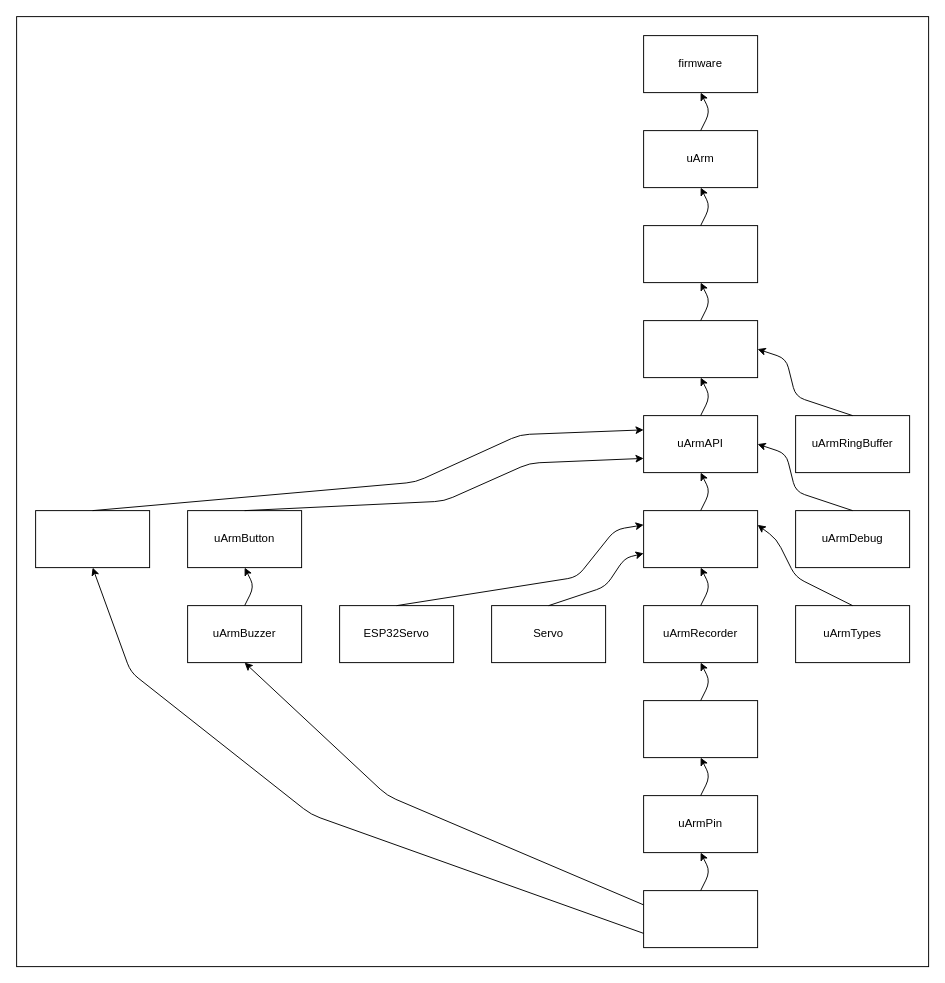
Some shapes in this 945 by 983 pixel diagram are drawn without their labels. Here are the shapes that lost their labels. From the top down, the centre of each, then its label:
the point at 700,254: uArmService
the point at 700,349: uArmComm
the point at 92,539: uArmLed
the point at 700,539: uArmController
the point at 700,729: uArmIIC
the point at 700,919: uArmConfig
